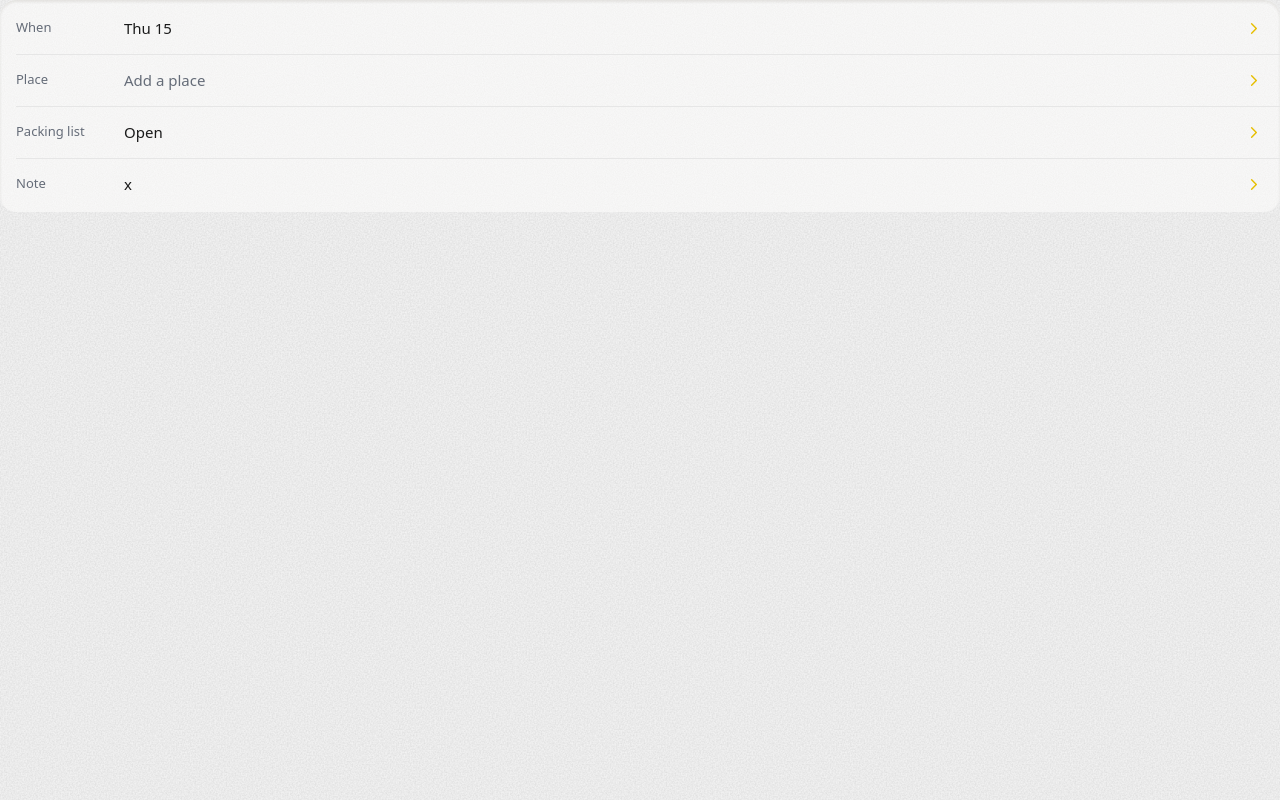
Test: NavRow and DetailGroup › is a group of rows: label, value, chevron; a link, a button or a picker
This screenshot has width=1280, height=800.
Step 1. Click the button "When Thu 15" → point(34, 27), box [0, 2, 1279, 54]
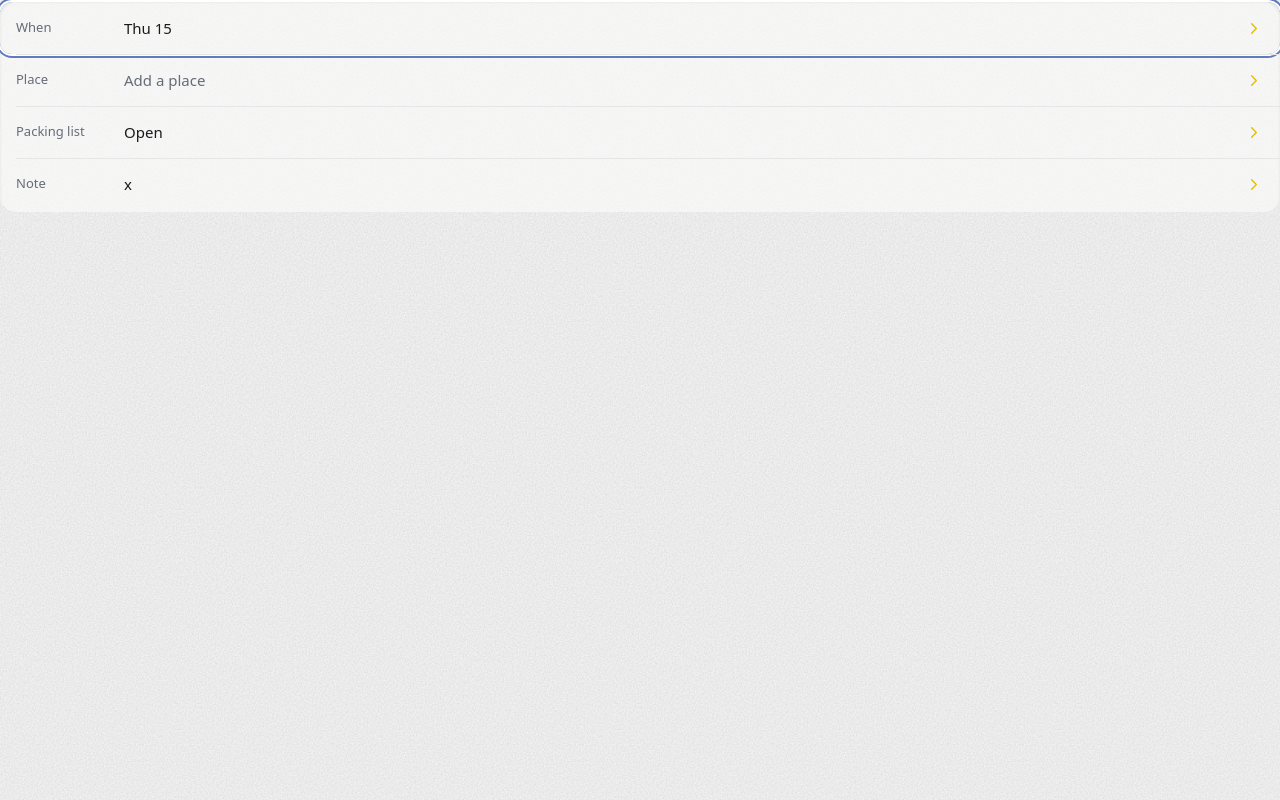
Step 2. Click the button "Note x" → point(31, 183), box [0, 158, 1279, 210]
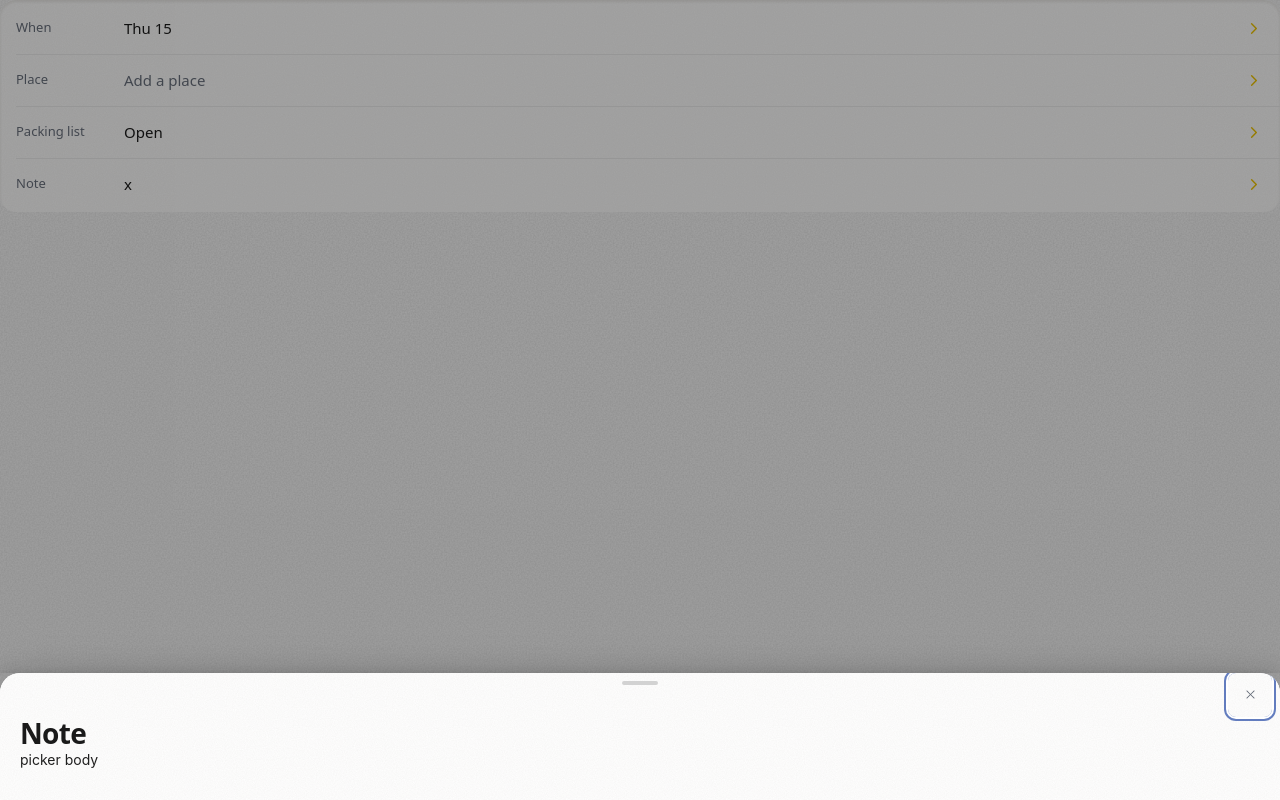
Result: the text "picker body" is shown at [20, 751, 98, 768]
